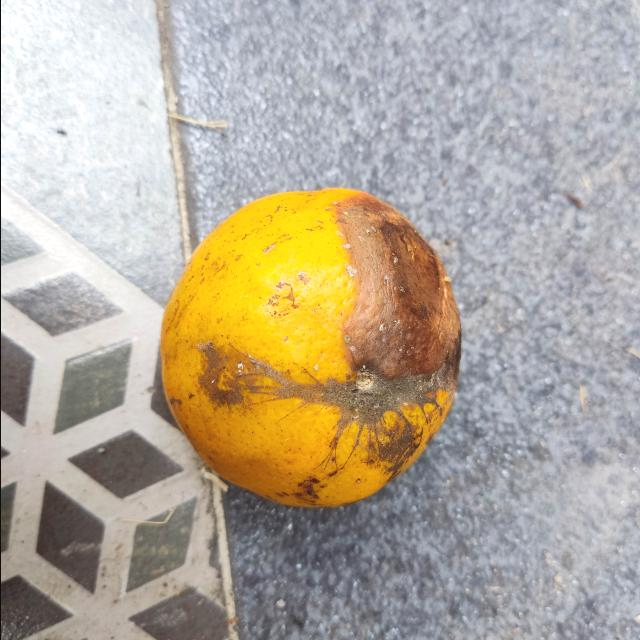orange: (157, 186, 465, 508)
